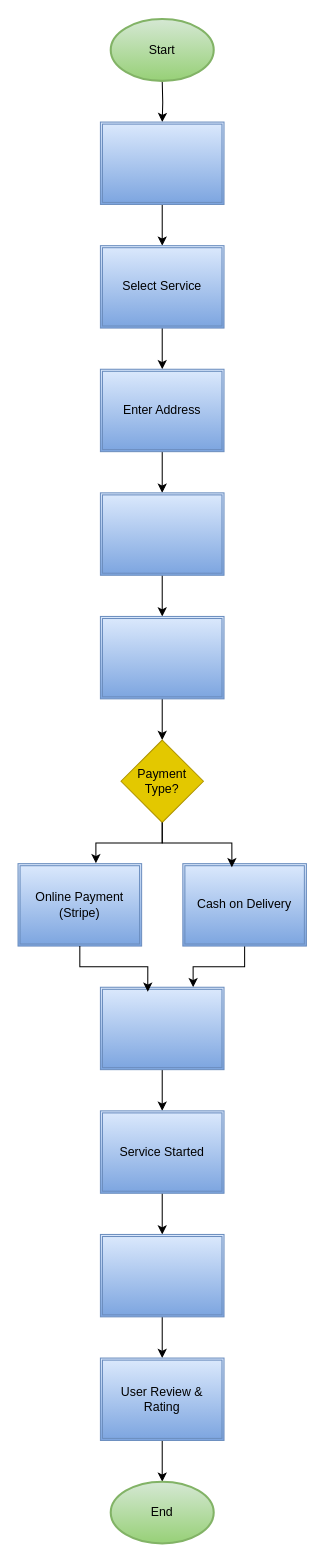
The diagram is 324 pixels wide and 1561 high, and some of its shapes have lost their labels. The shapes that lost their labels are listed below. From the top down, each one's centre as x and y in pixels, then its label:
(161,162): User Login / Register
(161,533): Choose Time Slot
(161,657): Confirm Booking (status: pending)
(161,1028): Assign Electrician (status: confirmed)
(161,1275): Service Completed (status: completed)
